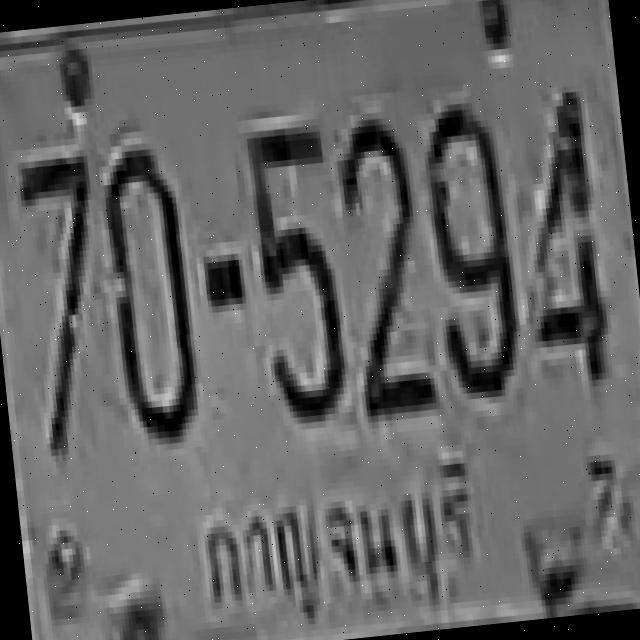0: (96, 140, 200, 442)
2: (332, 106, 432, 413)
4: (508, 82, 614, 388)
5: (242, 118, 346, 420)
7: (12, 149, 118, 456)
9: (418, 94, 522, 395)
Kanchanaburi: (188, 452, 494, 639)
